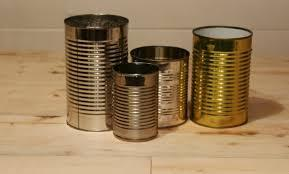Tin: (33, 9, 278, 157)
